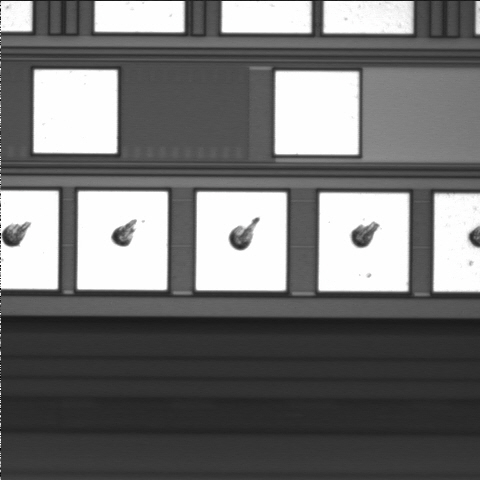pad: (77, 191, 168, 290), (196, 192, 286, 291), (319, 193, 409, 291), (275, 71, 359, 155), (34, 70, 117, 153)
